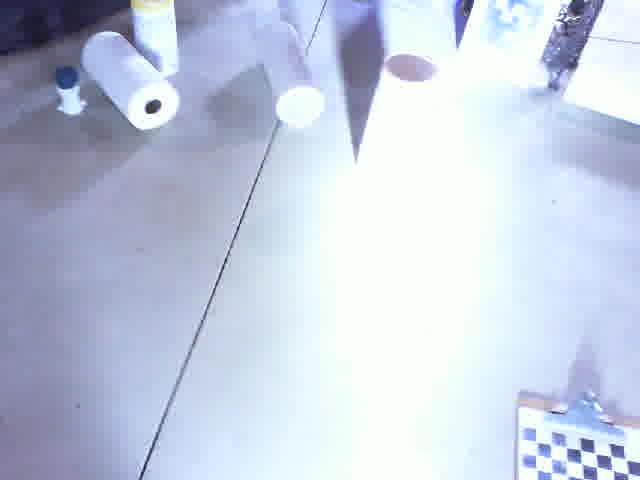coral: (350, 38, 439, 203), (248, 17, 330, 130), (562, 59, 640, 127)
